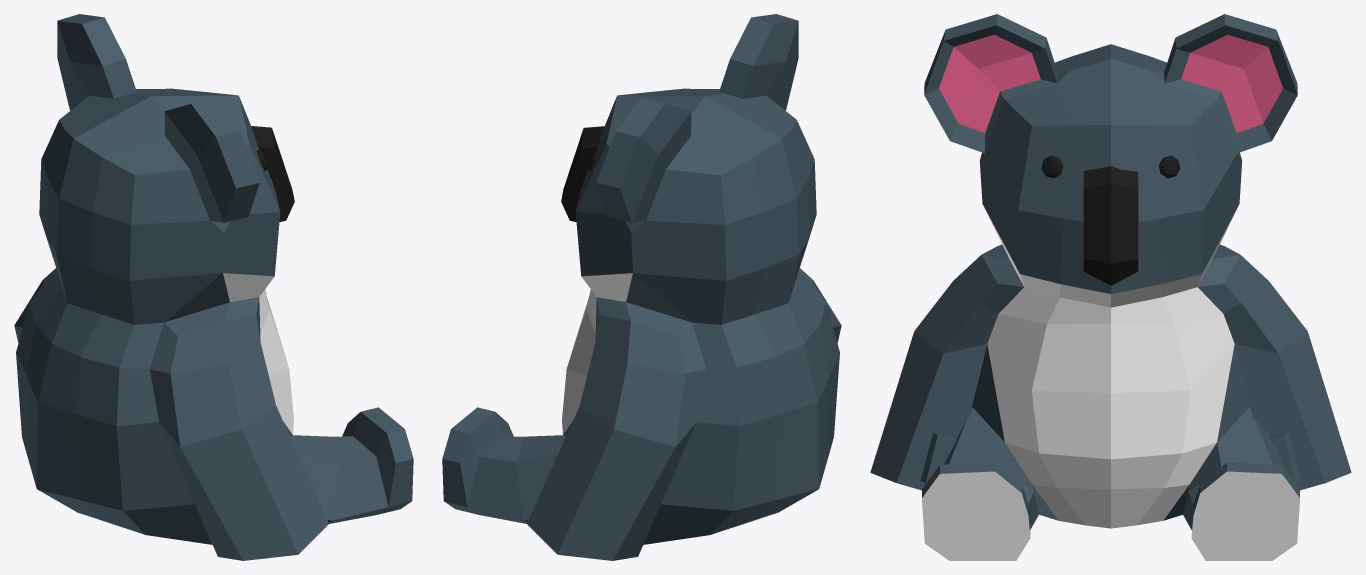
Rendered from Koala.glb.
The picture shows the model from 3 angles, left to right: view 1: azimuth 30°, elevation 25°; view 2: azimuth 150°, elevation 25°; view 3: azimuth 270°, elevation 25°; orthographic projection. The views are drawn at different scales.
Visible parts, largest first — view 1: Koala_01_Circle.004; view 2: Koala_01_Circle.004; view 3: Koala_01_Circle.004.
Part boxes in pixels (x1,y1,x2,y2): Koala_01_Circle.004: [14, 14, 413, 560]; Koala_01_Circle.004: [442, 14, 841, 560]; Koala_01_Circle.004: [870, 14, 1351, 560].
Bounding box in the file's own units: 6.84 × 9.94 × 9.56.
